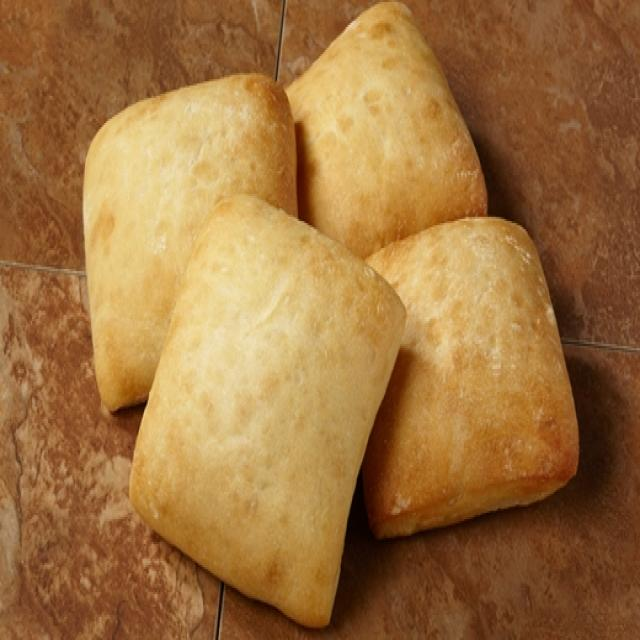Ciabatta: (130, 197, 405, 626), (84, 73, 297, 409), (362, 217, 577, 536), (286, 0, 486, 256)
